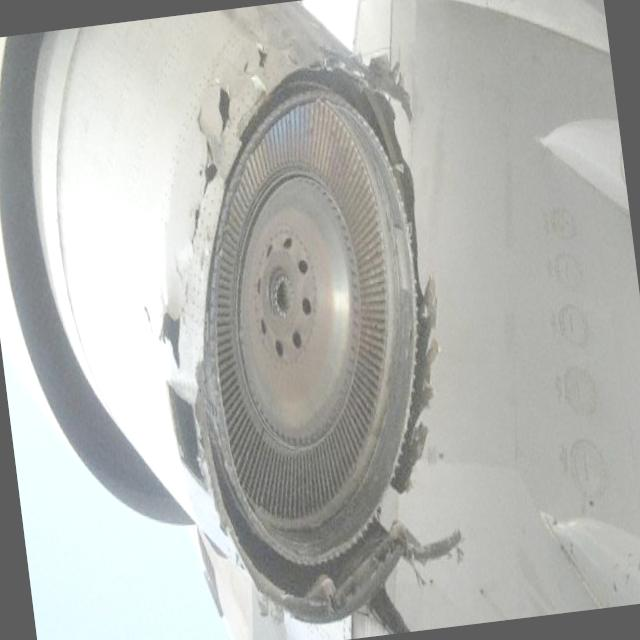crack: (312, 35, 472, 579), (103, 35, 310, 364)
